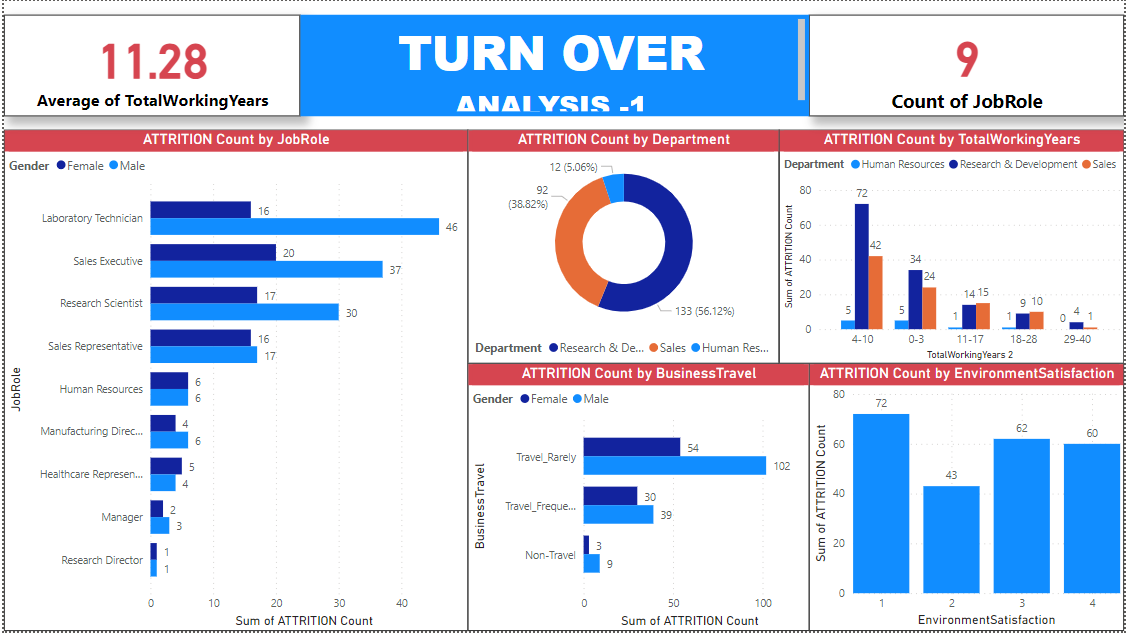

The dashboard page shown, as its layout file describes it:
{"tool":"powerbi","page":{"name":"Page 2","canvas":[1280,720],"ordinal":1},"visuals":[{"type":"clusteredColumnChart","title":"ATTRITION Count by EnvironmentSatisfaction","fields":{"Category":["HR-Employee-Attrition.EnvironmentSatisfaction"],"Y":["Sum(HR-Employee-Attrition.attribution count)"]},"box":[920,414.3,360,305.7],"z":0},{"type":"clusteredBarChart","title":"ATTRITION Count by JobRole ","fields":{"Category":["HR-Employee-Attrition.JobRole"],"Series":["HR-Employee-Attrition.Gender"],"Y":["Sum(HR-Employee-Attrition.attribution count)"]},"box":[0,147.1,530,572.9],"z":1000},{"type":"clusteredBarChart","title":"ATTRITION Count by BusinessTravel","fields":{"Category":["HR-Employee-Attrition.BusinessTravel"],"Y":["Sum(HR-Employee-Attrition.attribution count)"],"Series":["HR-Employee-Attrition.Gender"]},"box":[530,414.3,390,305.7],"z":2000},{"type":"donutChart","title":"ATTRITION Count by Department","fields":{"Category":["HR-Employee-Attrition.Department"],"Y":["Sum(HR-Employee-Attrition.attribution count)"]},"box":[530,147.1,355.7,267.1],"z":2001},{"type":"clusteredColumnChart","title":"ATTRITION Count by TotalWorkingYears","fields":{"Y":["Sum(HR-Employee-Attrition.attribution count)"],"Category":["HR-Employee-Attrition.TotalWorkingYears 2"],"Series":["HR-Employee-Attrition.Department"]},"box":[885.7,147.1,394.3,267.1],"z":2002},{"type":"card","fields":{"Values":["Count(HR-Employee-Attrition.JobRole)"]},"box":[920,15.7,360,115.7],"z":2003},{"type":"card","fields":{"Values":["Avg(HR-Employee-Attrition.TotalWorkingYears)"]},"box":[0,15.7,338.6,115.7],"z":2004},{"type":"textbox","box":[338.6,15.7,581.4,115.7],"z":2005}]}

Visuals, with their boxes in screenshot pixels (x1, y1, x2, y2), scaled from the page's 1280x720 canvas onto the 1131x636 screenshot:
"ATTRITION Count by EnvironmentSatisfaction" clusteredColumnChart: x1=813 y1=366 x2=1130 y2=635
"ATTRITION Count by JobRole " clusteredBarChart: x1=0 y1=130 x2=468 y2=635
"ATTRITION Count by BusinessTravel" clusteredBarChart: x1=468 y1=366 x2=813 y2=635
"ATTRITION Count by Department" donutChart: x1=468 y1=130 x2=783 y2=366
"ATTRITION Count by TotalWorkingYears" clusteredColumnChart: x1=783 y1=130 x2=1130 y2=366
card - Count(HR-Employee-Attrition.JobRole): x1=813 y1=14 x2=1130 y2=116
card - Avg(HR-Employee-Attrition.TotalWorkingYears): x1=0 y1=14 x2=299 y2=116
textbox: x1=299 y1=14 x2=813 y2=116
